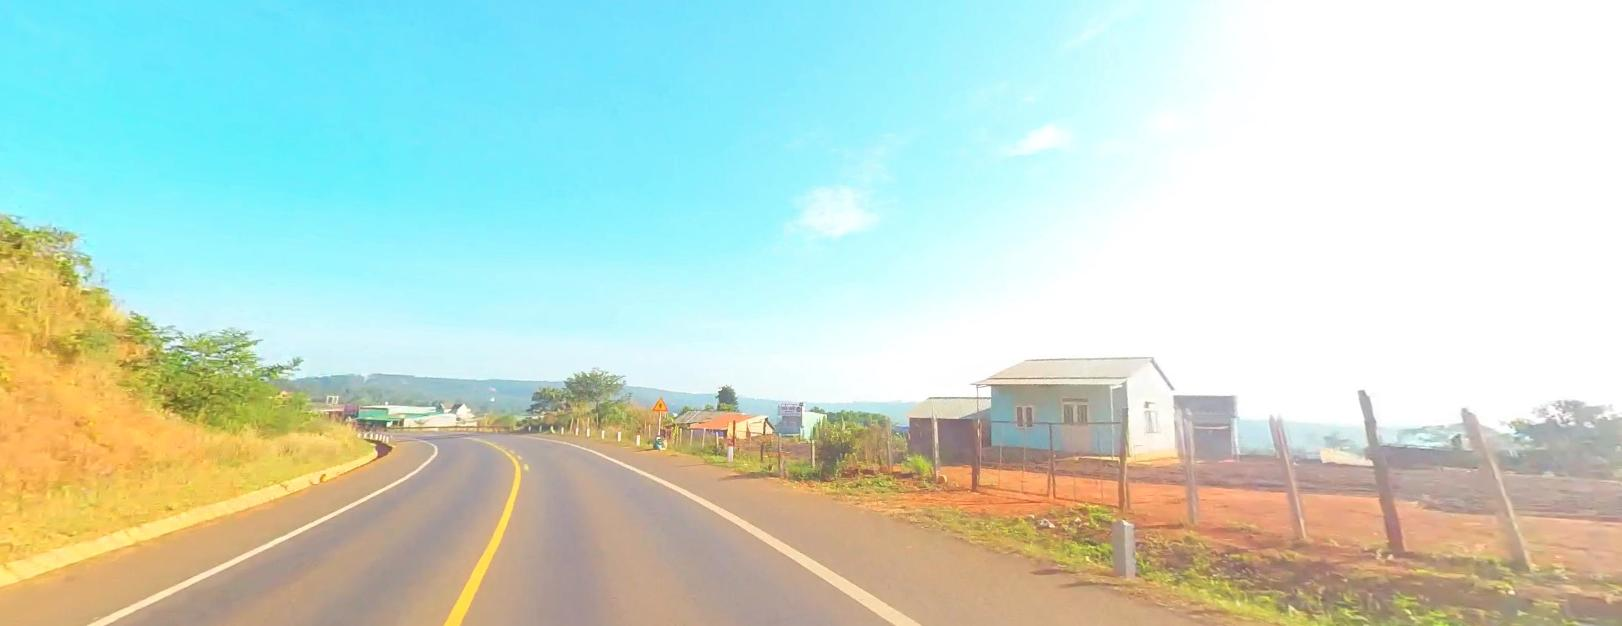Nguy hiem: (651, 395, 667, 409)
